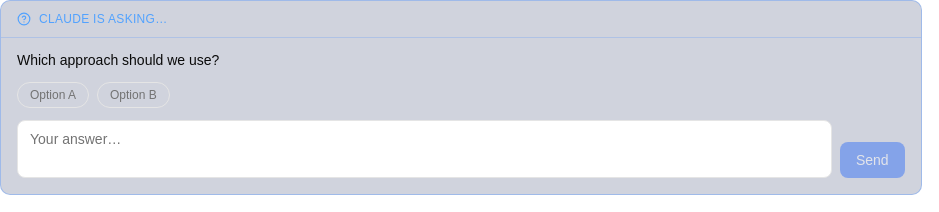
Test case: QuestionCard › clicking an option pre-fills the textarea
The image size is (939, 212).
Click the button "Option A" at (53, 95), box top-left (17, 82), bottom-right (89, 108)
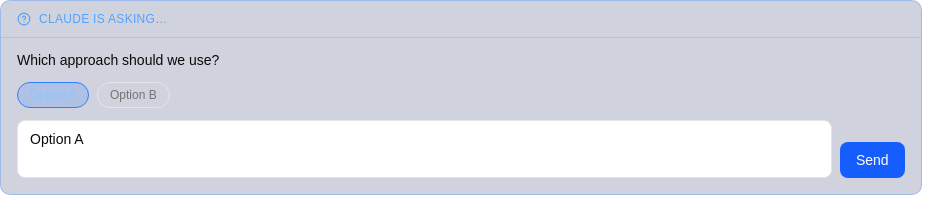
Expected: the text box holds "Option A", top-left (17, 120), bottom-right (832, 178)
